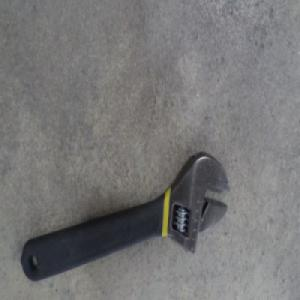AdjustableWrench: (19, 152, 232, 283)
